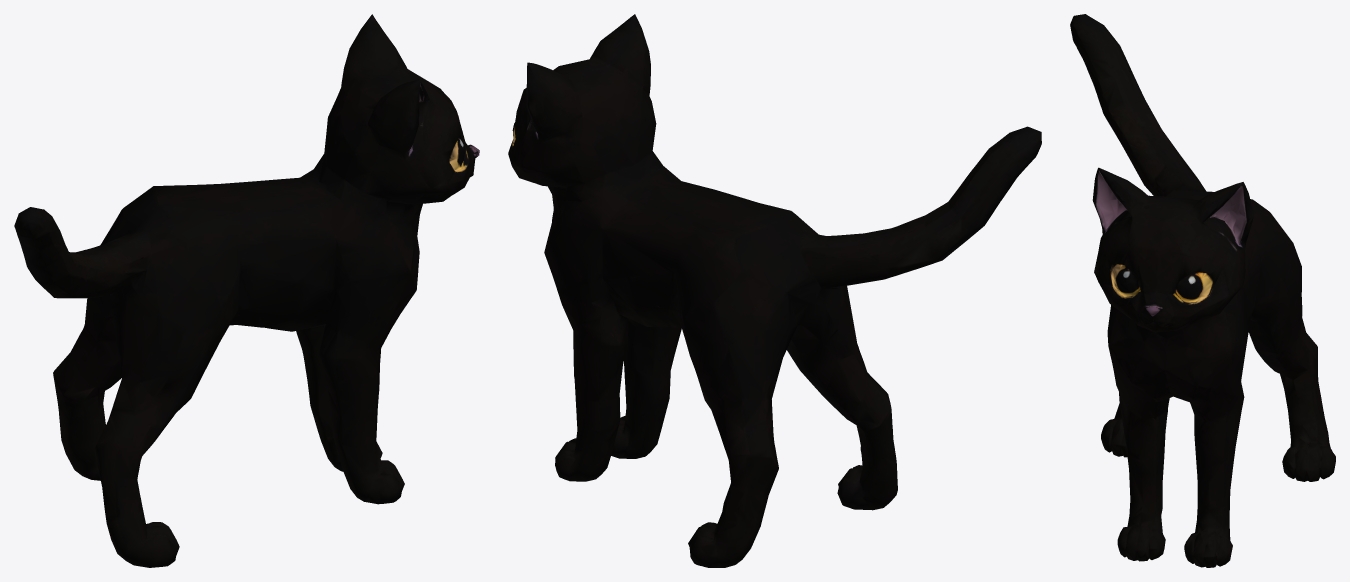
The model's file is TREADPAW.glb.
3 views of the same model, side by side, from view 1: azimuth 30°, elevation 25°; view 2: azimuth 150°, elevation 25°; view 3: azimuth 270°, elevation 25° (orthographic). The views are drawn at different scales.
Visible parts, largest first — view 1: material; view 2: material; view 3: material.
Part boxes in pixels (x1=…): material: x1=14, y1=14, x2=479, y2=567; material: x1=508, y1=14, x2=1041, y2=567; material: x1=1070, y1=14, x2=1335, y2=567.
Size of the model in its own units: 1.21 by 1 by 0.6103.
1 material, 1 textured.
